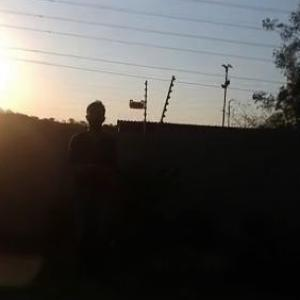follow: (59, 97, 124, 282)
